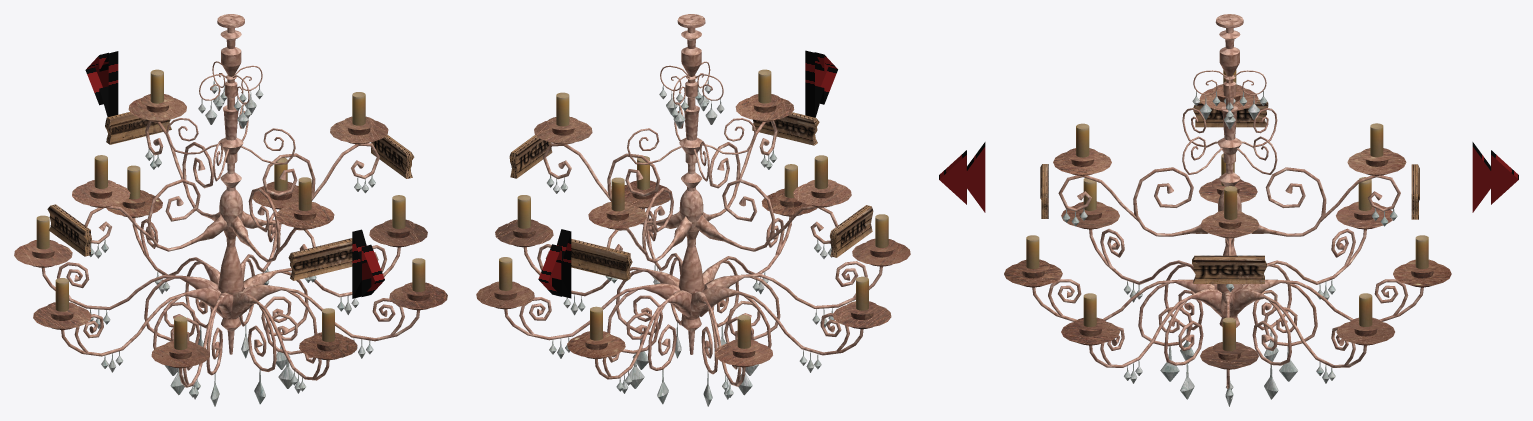
Rendered from candelabromenu.FBX.
3 renders of one model, left to right at view 1: azimuth 30°, elevation 25°; view 2: azimuth 150°, elevation 25°; view 3: azimuth 270°, elevation 25°, orthographic.
Visible parts, largest first — view 1: Line001, Line075, Line096, Line103, Creditos, Line048, Instrucciones (×2), Line082, Line110, Line109, Line042, Line068 (+29 smaller); view 2: Line001, Instrucciones (×2), Line061, Line096, Line089, Line048, Line049, Line109, Line110, Line042, Line068, Line103 (+29 smaller); view 3: Line001, Jugar, Line061, Line075, Line082, Line049, Line109, Line110, Line025, Line036, Line089, Line103 (+13 smaller).
Boxes of the visible parts, <box> form: Line001: <box>217,14,244,354</box>; Line075: <box>239,284,419,354</box>; Line096: <box>61,288,223,356</box>; Line103: <box>41,262,218,341</box>; Creditos: <box>288,238,352,280</box>; Line048: <box>84,179,227,251</box>; Instrucciones (×2): <box>105,69,171,144</box>; Line082: <box>231,291,329,380</box>; Line110: <box>352,229,384,298</box>; Line109: <box>85,51,118,116</box>; Line042: <box>241,143,379,228</box>; Line068: <box>243,245,400,335</box>; Line001: <box>677,14,705,354</box>; Instrucciones (×2): <box>571,177,632,280</box>; Line061: <box>504,283,684,353</box>; Line096: <box>699,286,863,355</box>; Line089: <box>704,261,882,339</box>; Line048: <box>695,179,838,251</box>; Line049: <box>595,290,691,379</box>; Line109: <box>538,229,571,298</box>; Line110: <box>805,50,837,117</box>; Line042: <box>542,143,681,228</box>; Line068: <box>523,244,679,334</box>; Line103: <box>690,291,745,386</box>; Line001: <box>1215,14,1243,327</box>; Jugar: <box>1192,255,1266,283</box>; Line061: <box>1231,288,1366,367</box>; Line075: <box>1089,288,1223,367</box>; Line082: <box>1032,279,1215,346</box>; Line049: <box>1242,279,1423,346</box>; Line109: <box>1472,142,1518,212</box>; Line110: <box>939,142,985,212</box>; Line025: <box>1251,167,1400,236</box>; Line036: <box>1058,167,1208,236</box>; Line089: <box>1089,229,1216,330</box>; Line103: <box>1242,228,1366,330</box>.
Bounding box in the file's own units: 110 × 98.53 × 143.
